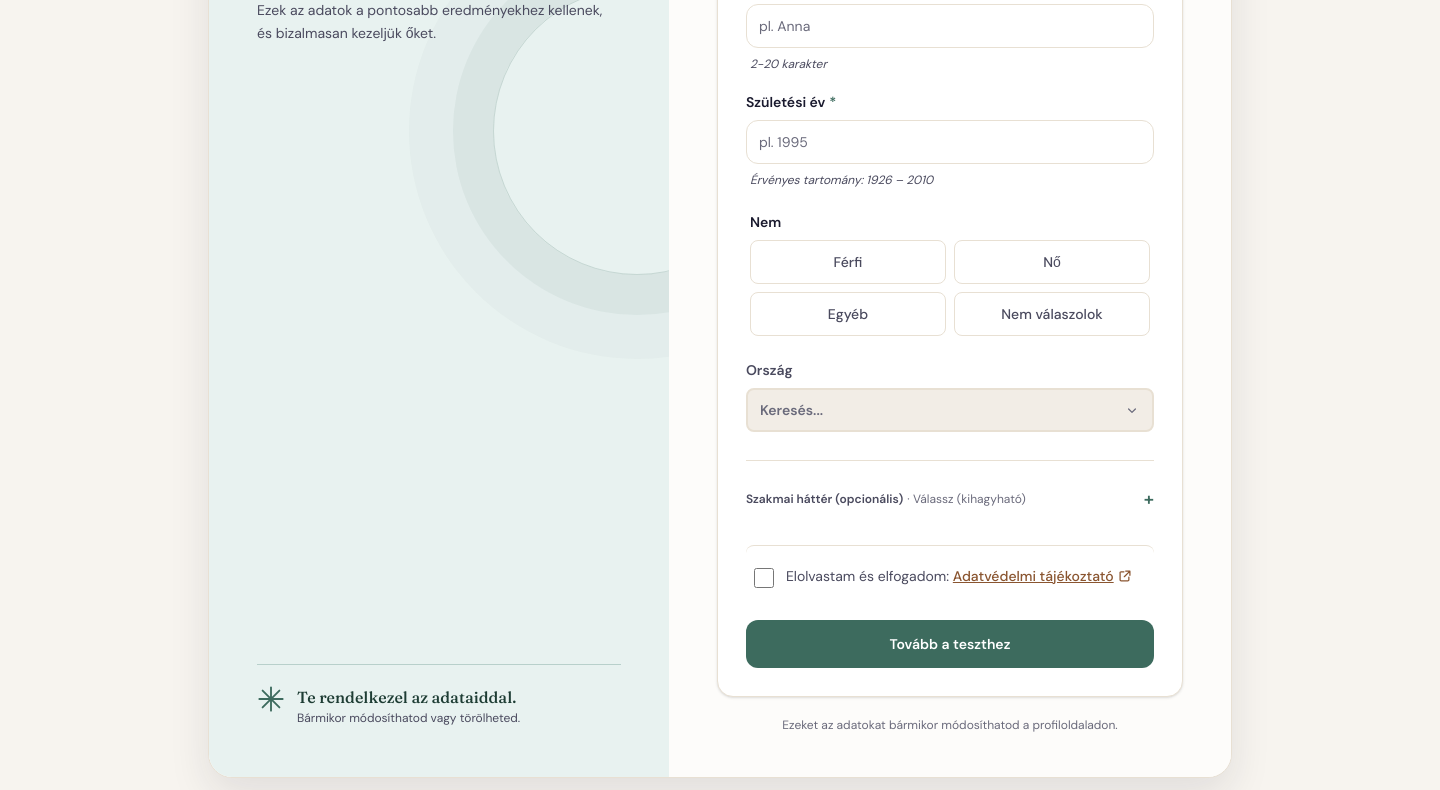
Scenario: OnboardingClient accessibility and validation › keeps every required-field error visible until that field is corrected
The width and height of the screenshot is (1440, 790).
(page scrolled)
Click the button "Tovább a teszthez" at (950, 644), box x1=746 y1=620 x2=1154 y2=668
Wait 2000 ms
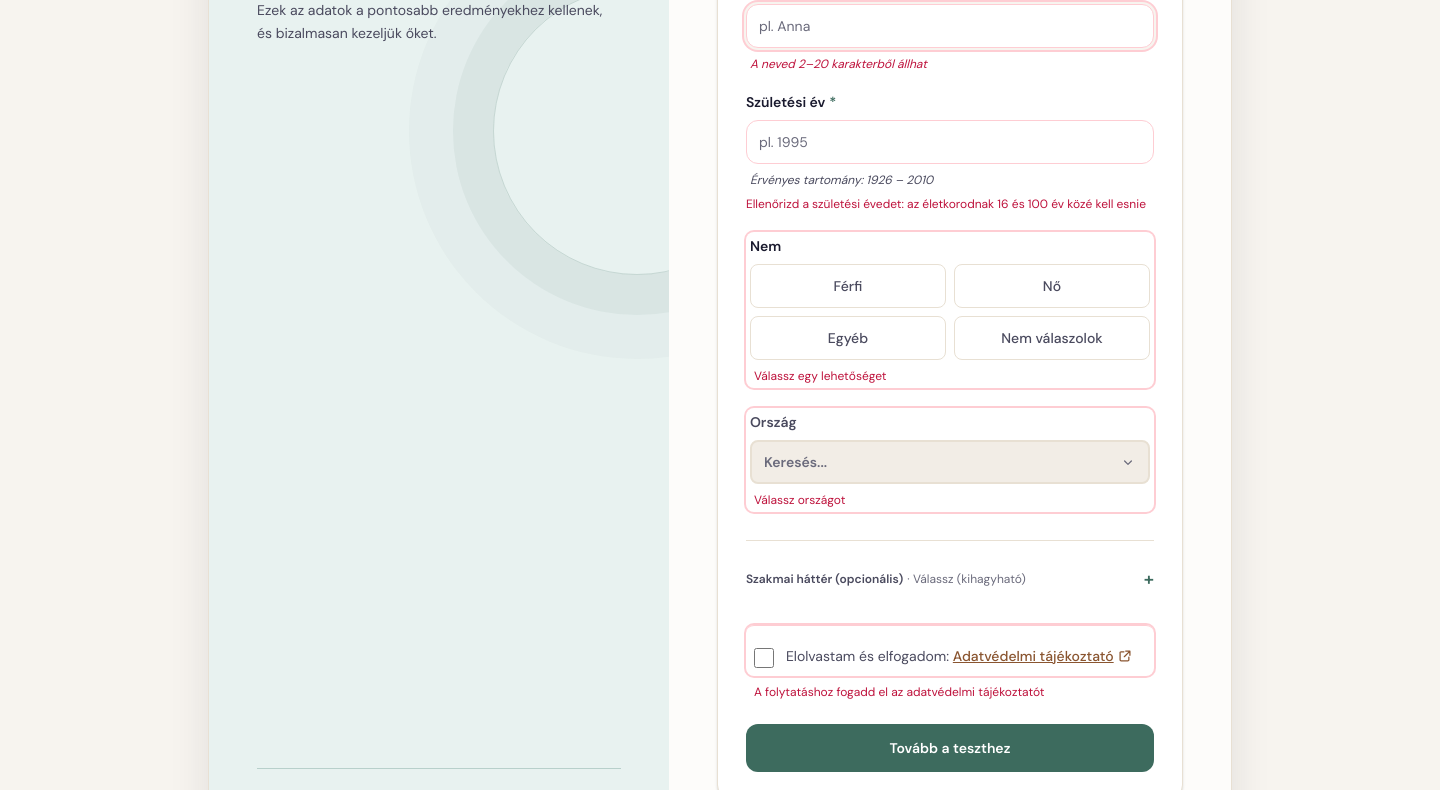
Expected: the text "A neved 2–20 karakterből állhat" is shown, x1=750 y1=56 x2=927 y2=72
Expected: the text "Ellenőrizd a születési évedet: az életkorodnak 16 és 100 év közé kell esnie" is shown, x1=746 y1=196 x2=1154 y2=212
Expected: the text "Válassz egy lehetőséget" is shown, x1=754 y1=368 x2=886 y2=384
Type "Anna" into the field labelled "Hogy szólíthatunk?" at (950, 26), box x1=746 y1=4 x2=1154 y2=48
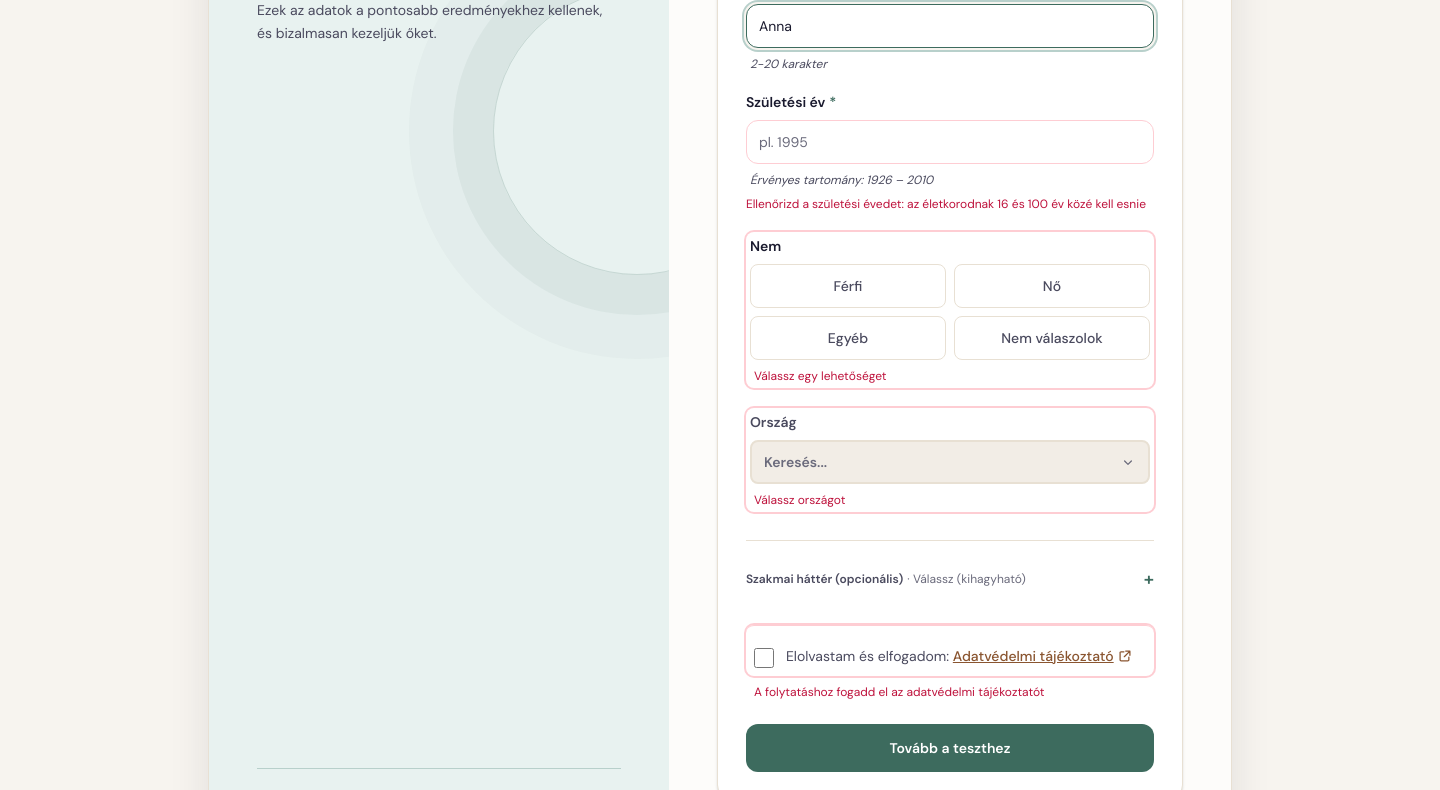
Expected: the text "Válassz országot" is shown, x1=754 y1=492 x2=845 y2=508
Expected: the text "A neved 2–20 karakterből állhat" is gone
